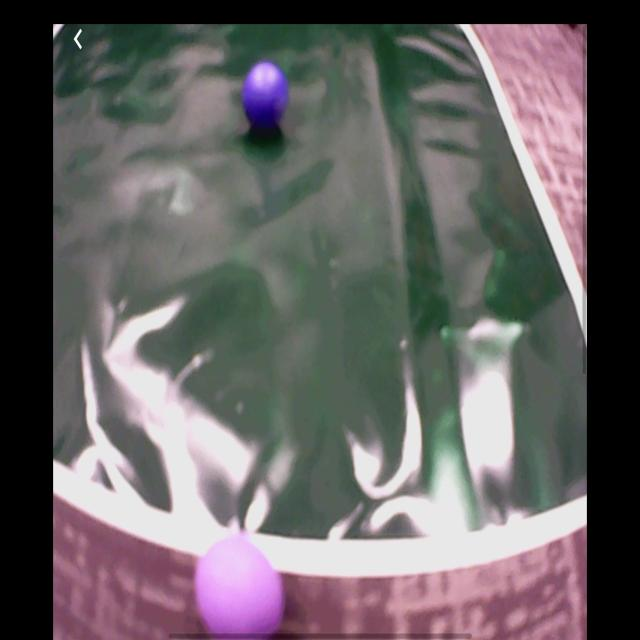ball: (195, 538, 285, 638), (243, 61, 288, 129)
